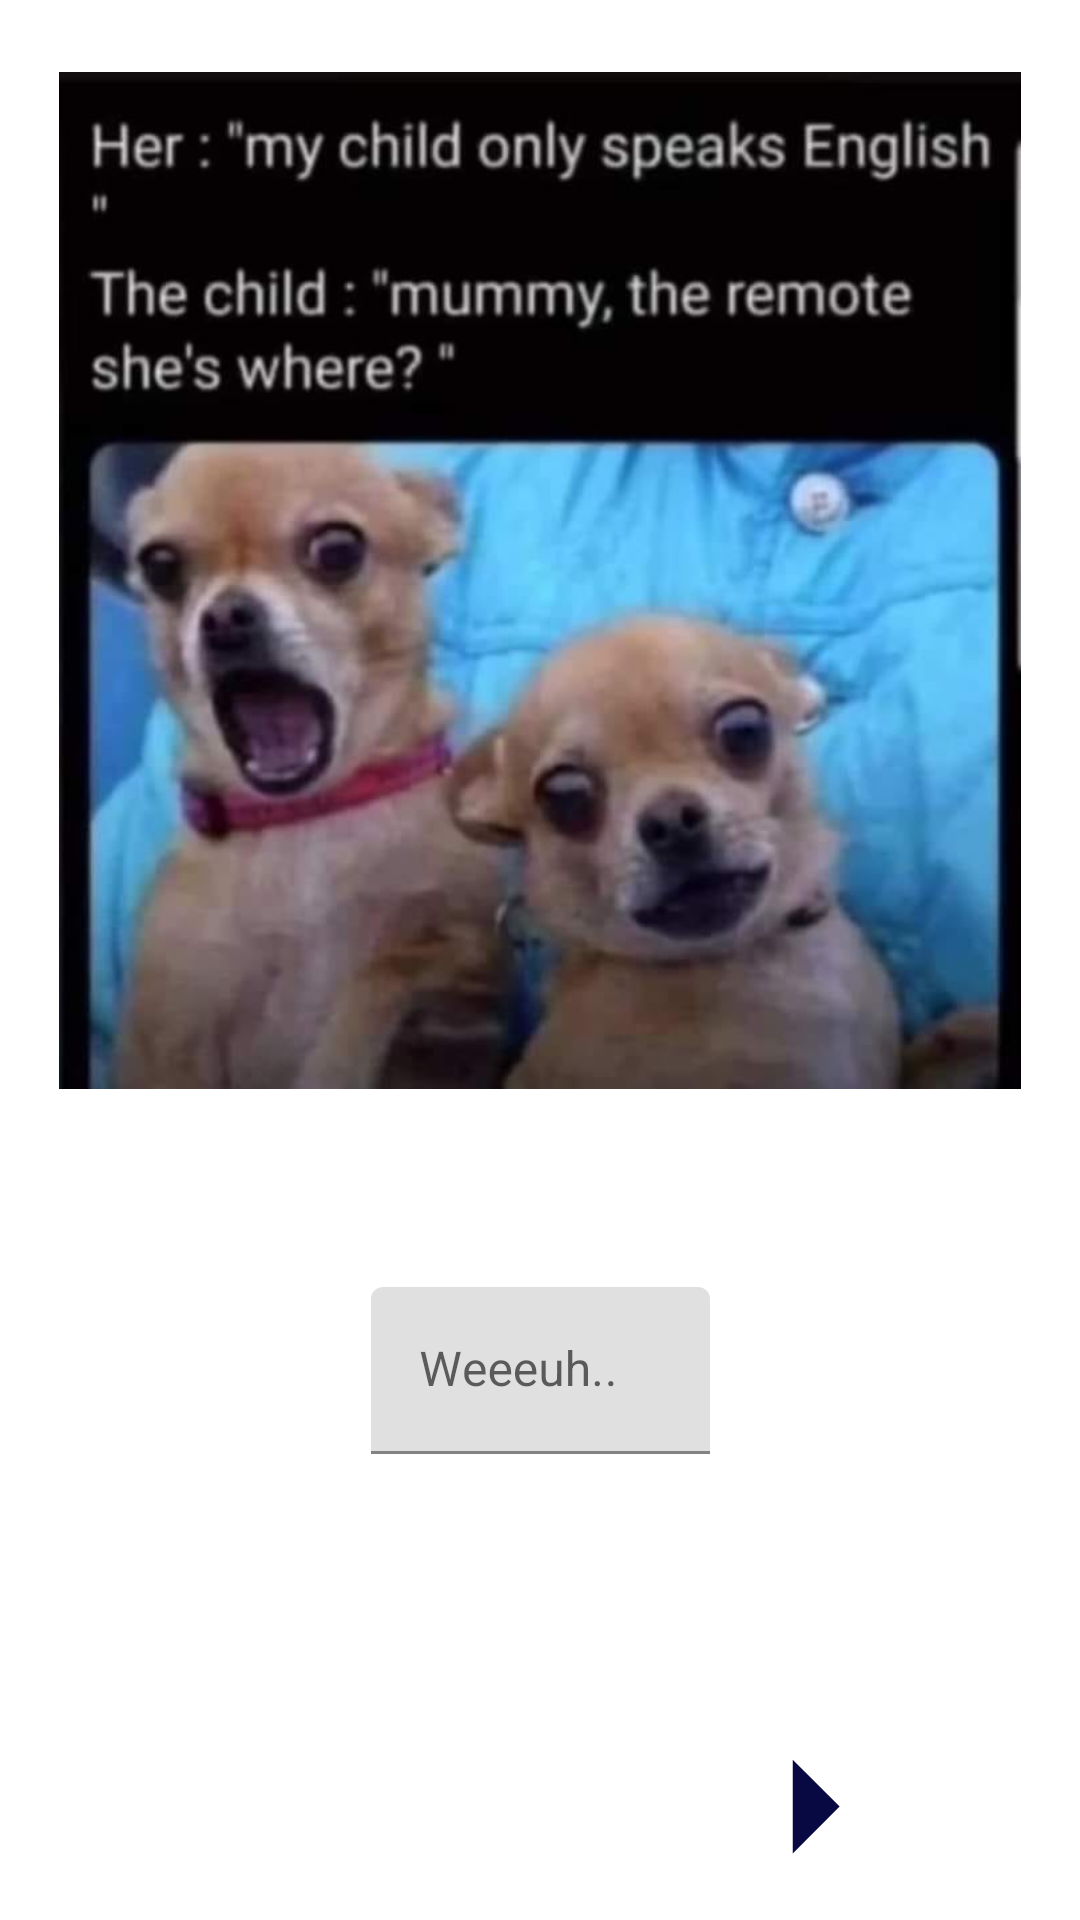

Named icons in this screenshot (1080*1920) and their bounding boxes, (x1, y1, x2, y2):
arrow right: (792, 1760, 840, 1853)
